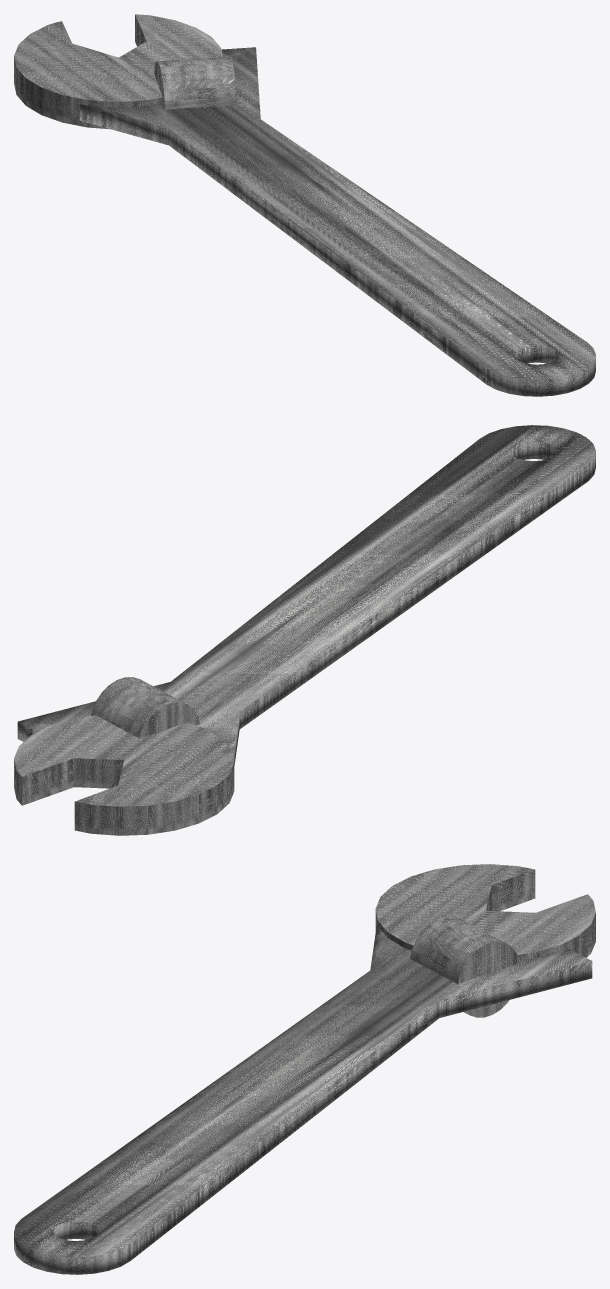
Rendered from wrench.dae.
The picture shows the model from 3 angles, top to bottom: view 1: azimuth 30°, elevation 25°; view 2: azimuth 150°, elevation 25°; view 3: azimuth 330°, elevation 25°; orthographic projection. The views are drawn at different scales.
Parts seen in each view (by area): view 1: SketchUp (×4); view 2: SketchUp (×4); view 3: SketchUp (×4).
Boxes of the visible parts, x1,y1,x2,y2 form: SketchUp (×4): [14, 14, 595, 396]; SketchUp (×4): [14, 425, 595, 835]; SketchUp (×4): [14, 864, 595, 1274].
Size of the model in its own units: 78.33 by 314 by 24.59.
